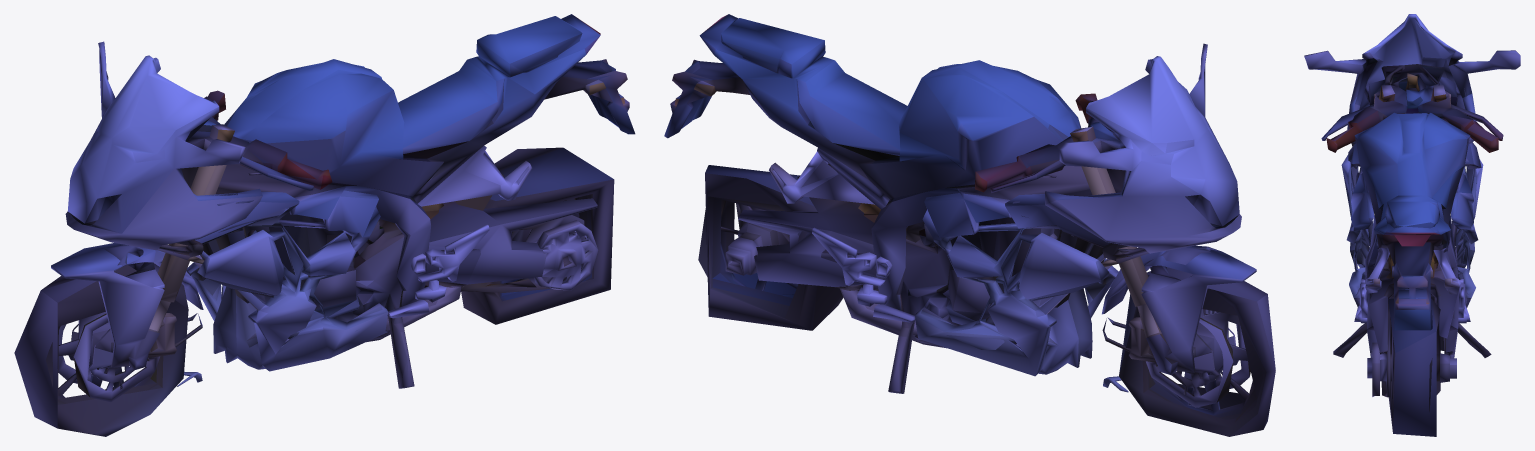
Rendered from model.progressive.glb.
3 renders of one model, left to right at view 1: azimuth 30°, elevation 25°; view 2: azimuth 150°, elevation 25°; view 3: azimuth 270°, elevation 25°, orthographic. The views are drawn at different scales.
Parts seen in each view (by area): view 1: material; view 2: material; view 3: material.
Boxes of the visible parts, box(x1,y1,x2,y2) form: material: box(14, 14, 635, 436); material: box(664, 14, 1275, 436); material: box(1304, 14, 1520, 436).
Size of the model in its own units: 1.88 by 1.08 by 0.7713.
1 material, 1 textured.
